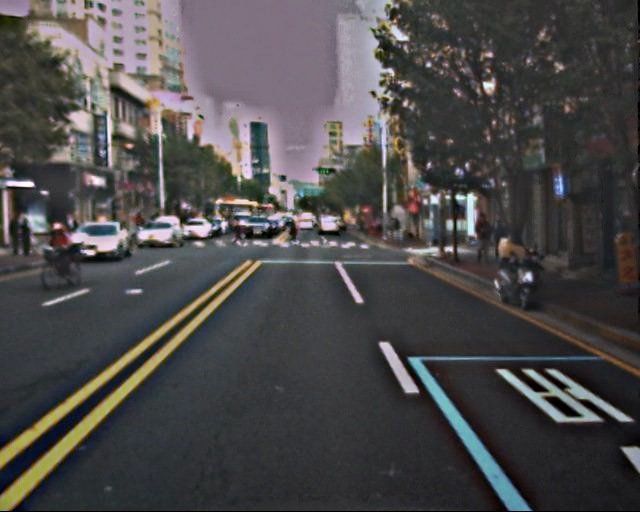person: (486, 209, 510, 267), (471, 212, 493, 265), (10, 218, 33, 258), (284, 217, 297, 249)
